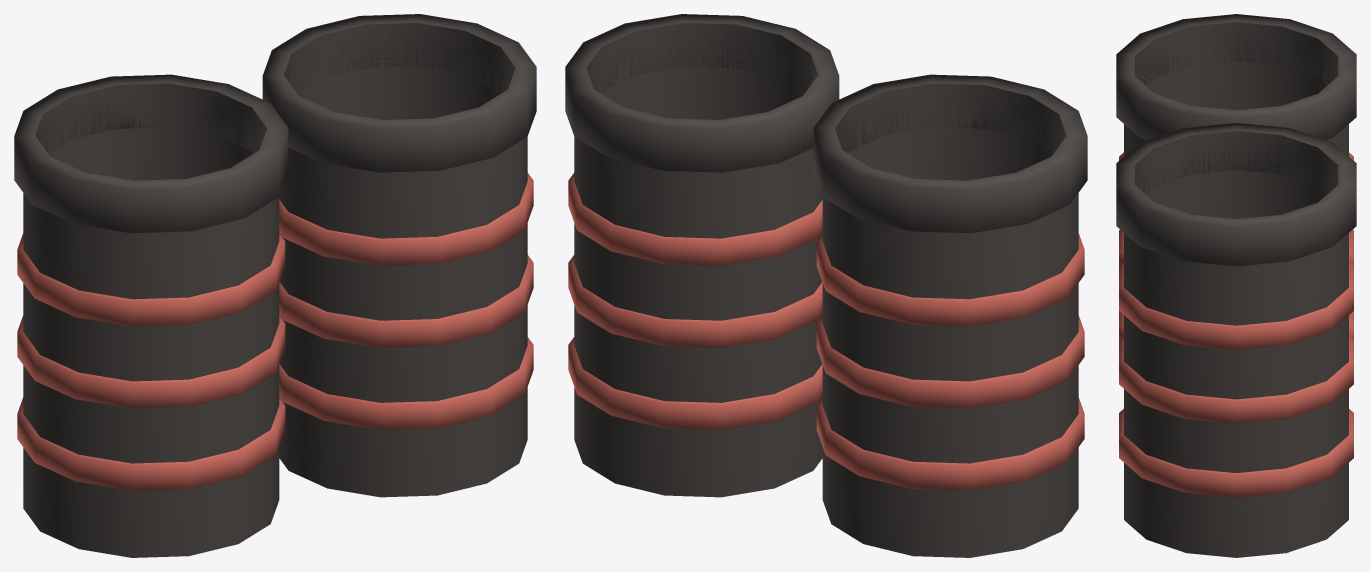
Rendered from compression_tights.glb.
3 views of the same model, side by side, from view 1: azimuth 30°, elevation 25°; view 2: azimuth 150°, elevation 25°; view 3: azimuth 270°, elevation 25° (orthographic). The views are drawn at different scales.
Visible parts, largest first — view 1: compression_tights_LegL, compression_tights_LegR; view 2: compression_tights_LegL, compression_tights_LegR; view 3: compression_tights_LegR, compression_tights_LegL.
Part boxes in pixels (x1,y1,x2,y2): compression_tights_LegL: (14,74,288,557); compression_tights_LegR: (262,14,536,497); compression_tights_LegL: (813,74,1087,557); compression_tights_LegR: (565,14,839,497); compression_tights_LegR: (1116,123,1356,557); compression_tights_LegL: (1116,14,1356,338).
Size of the model in its own units: 0.372 by 0.272 by 0.1774.
